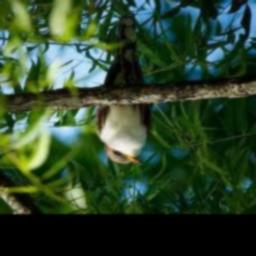Cuckoo: (95, 15, 150, 166)
